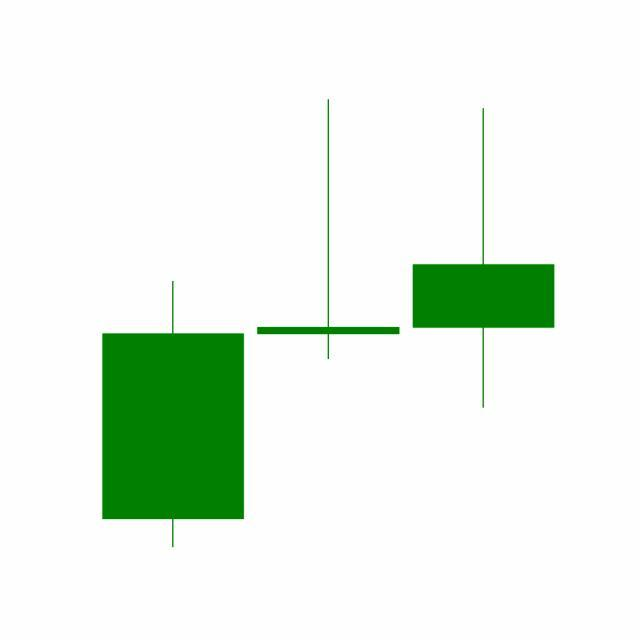Gravestone Doji: (250, 97, 407, 363)
